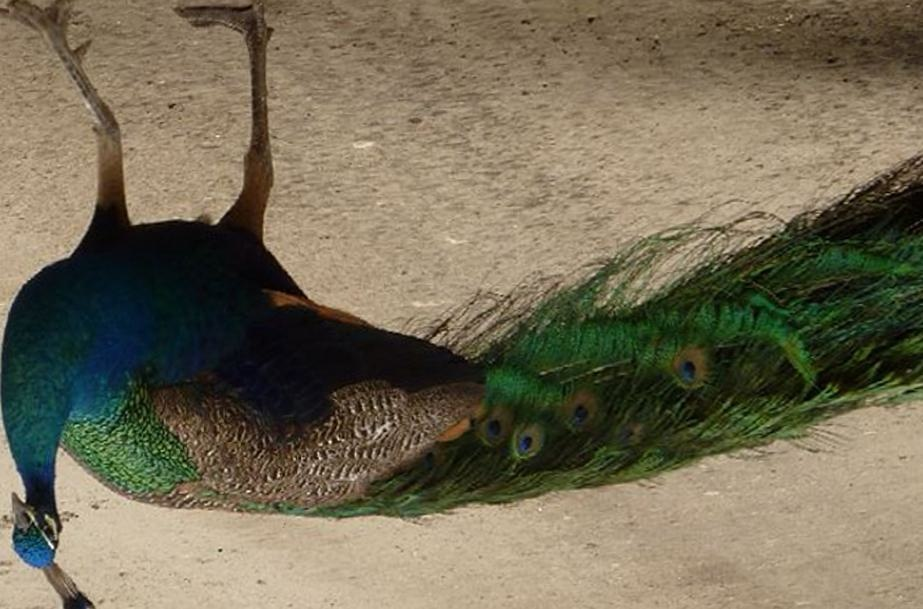peacock: (6, 171, 923, 567)
